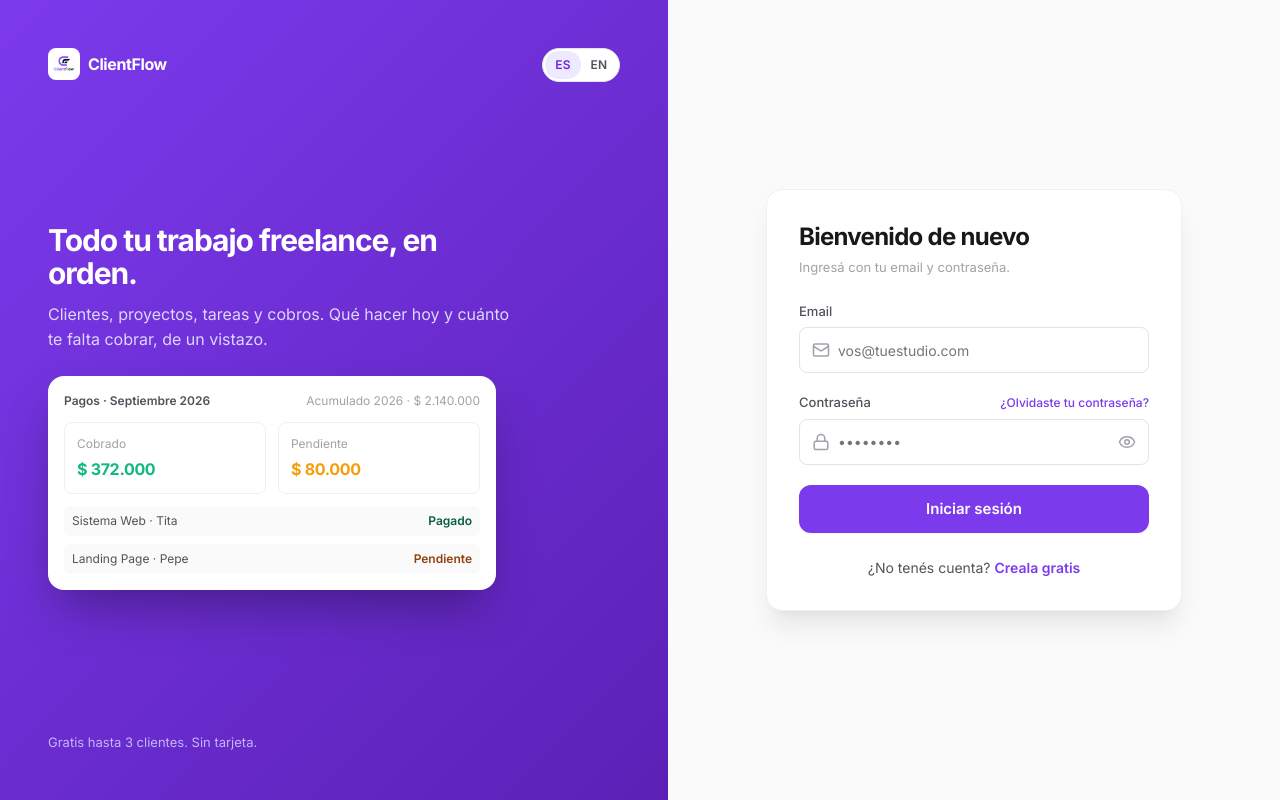
it: Login › offers to re-send the confirmation email to the address just typed, and confirms it
Type "tita@estudio.com" into the field labelled "Email" at (987, 350), box [838, 328, 1136, 372]
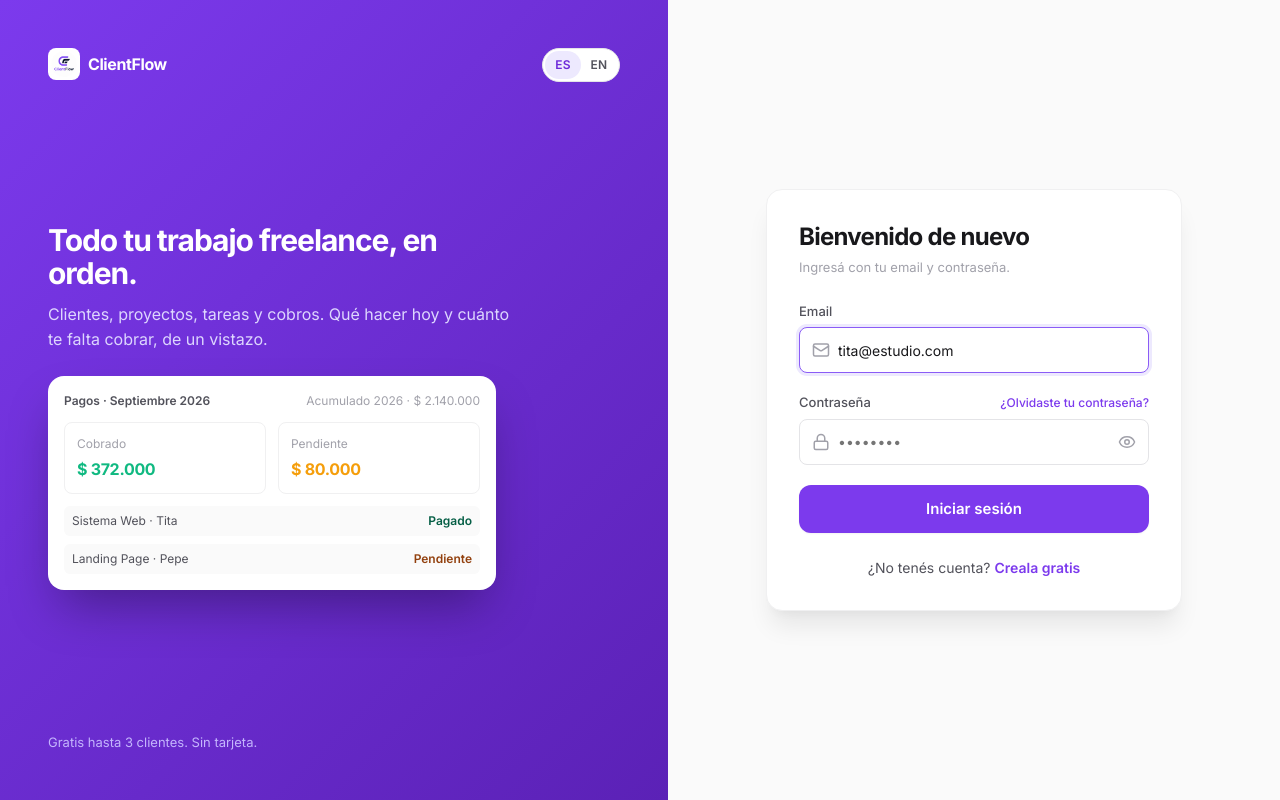
Type "supersecreta" into the password field labelled "Contraseña" at (974, 442), box [838, 420, 1110, 464]
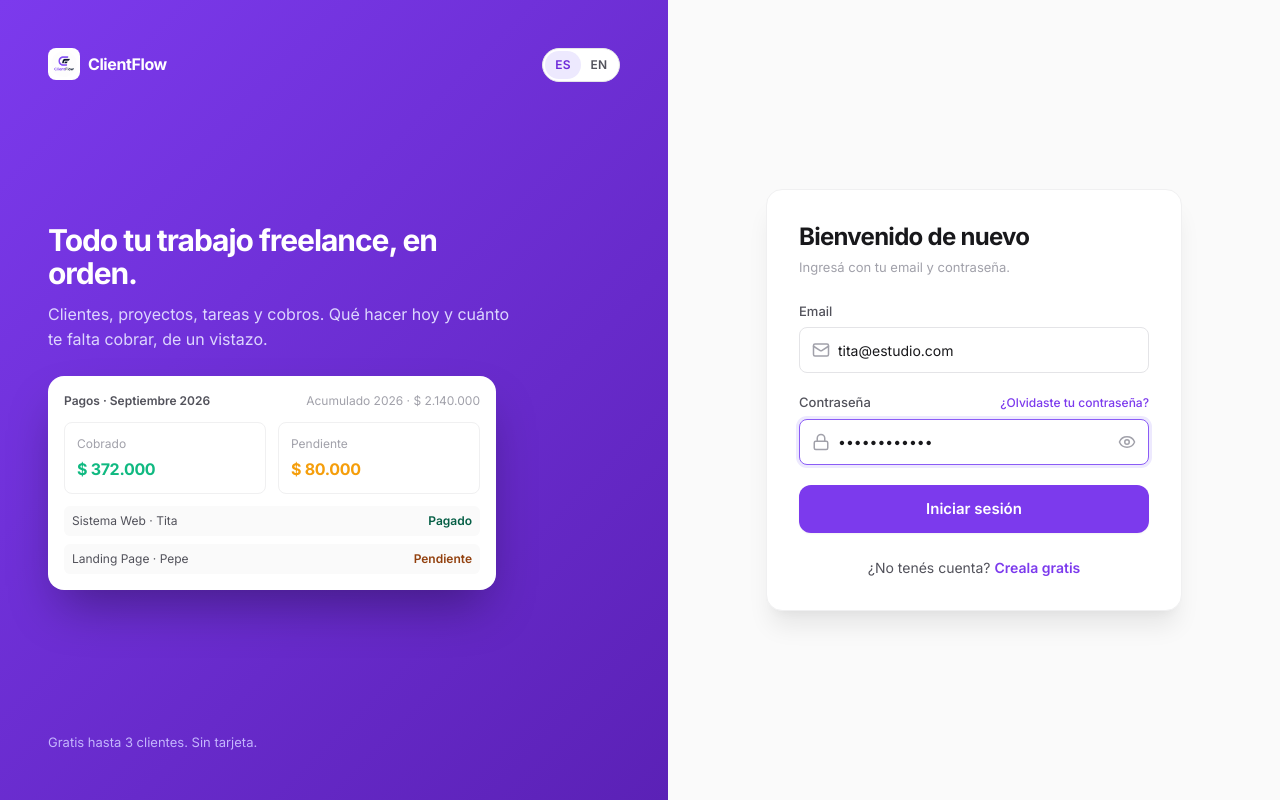
Click the button "Iniciar sesión" at (974, 509), box [799, 485, 1149, 533]
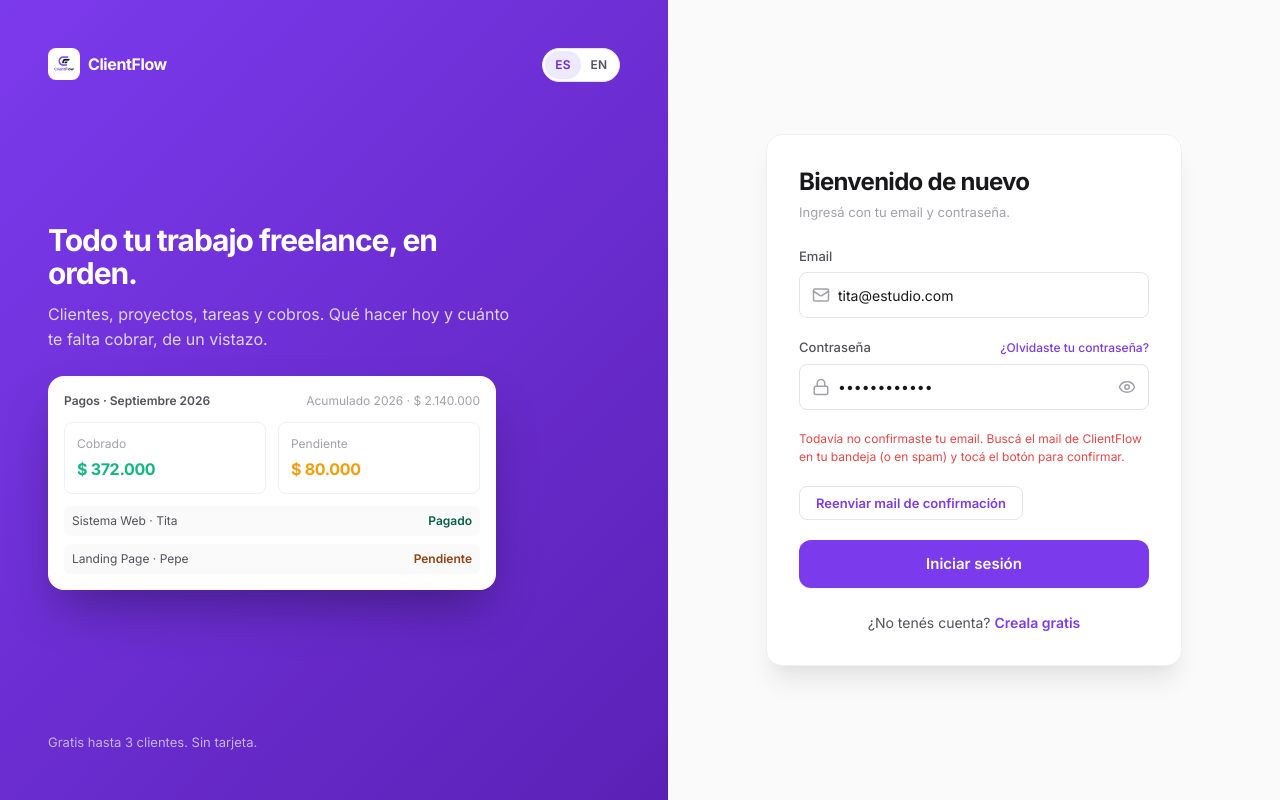
Result: the text "Todavía no confirmaste tu email" is shown at [799, 431, 1142, 464]
Click the button "Reenviar mail de confirmación" at (911, 503), box [799, 486, 1023, 520]
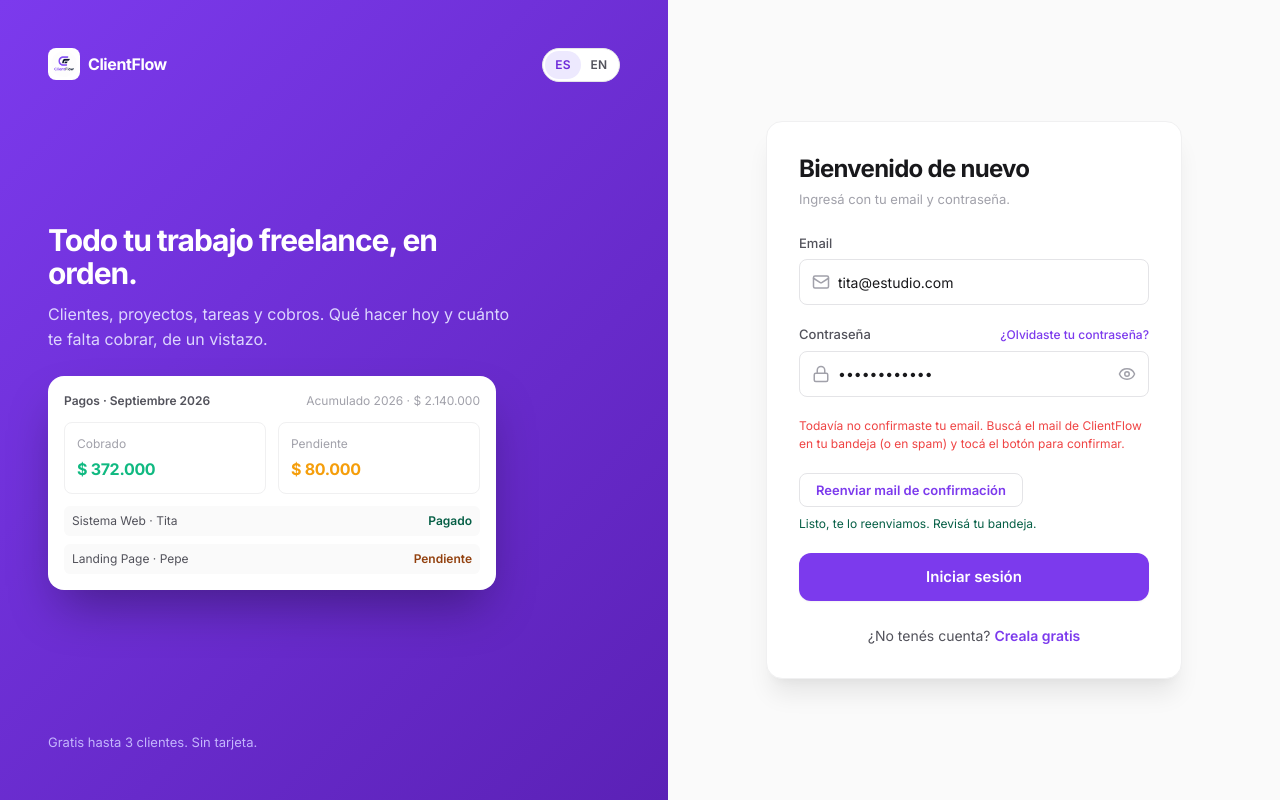
Result: the text "Listo, te lo reenviamos. Revisá tu bandeja." is shown at [799, 515, 1036, 533]
